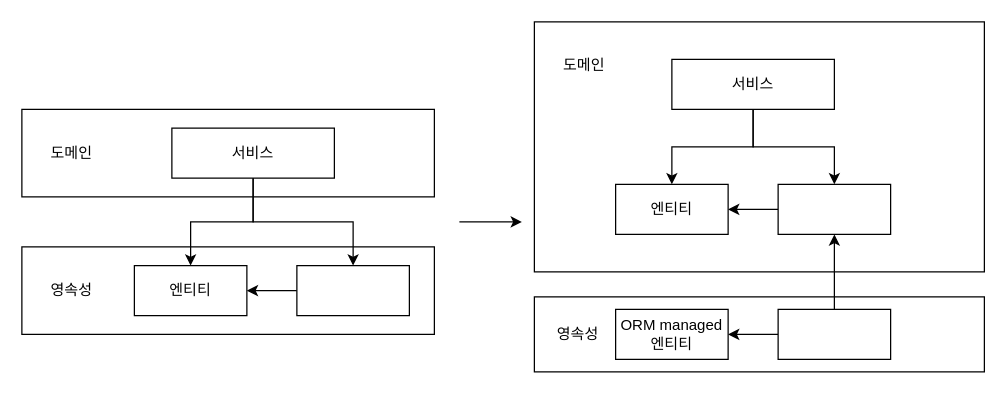
The diagram is 1006 pixels wide and 394 high, and some of its shapes have lost their labels. Each missing label, with the centre of its shape:
리파지토리: [352,290]
리파지토리 interface: [834,208]
리포지토리 구현체: [834,333]
